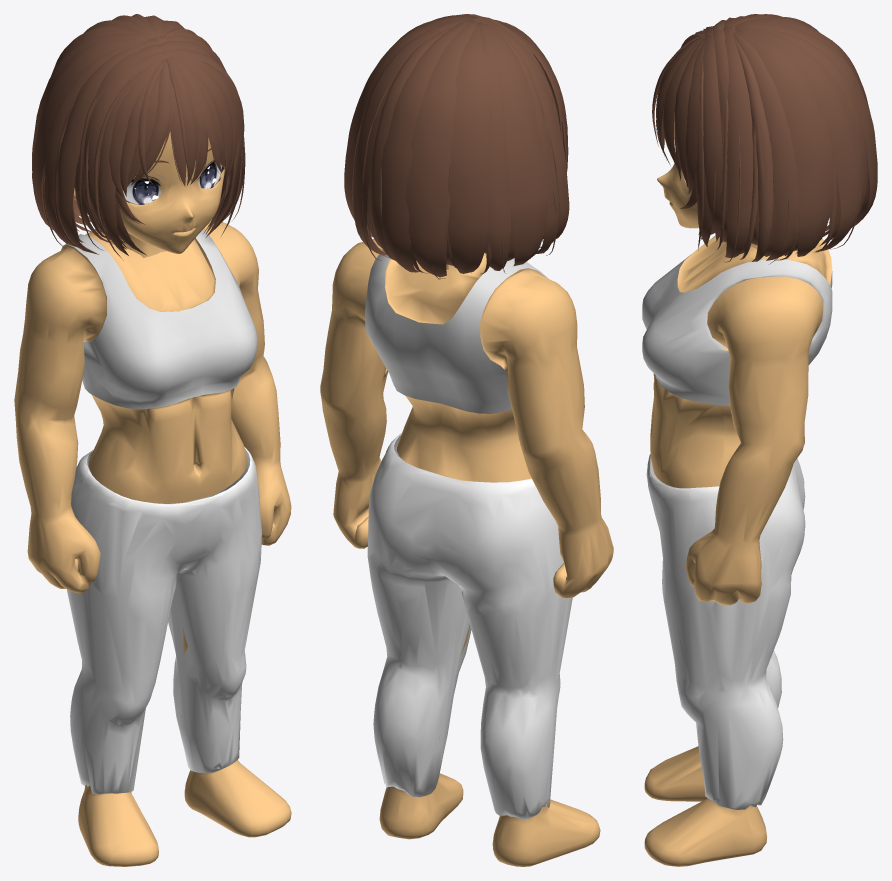
The model's file is Mii female Stage 5.glb.
3 views of the same model, side by side, from view 1: azimuth 30°, elevation 25°; view 2: azimuth 150°, elevation 25°; view 3: azimuth 270°, elevation 25° (orthographic). The views are drawn at different scales.
Visible parts, largest first — view 1: Body; view 2: Body; view 3: Body.
Boxes of the visible parts, x1,y1,x2,y2 form: Body: (14, 14, 291, 866); Body: (320, 14, 613, 866); Body: (642, 14, 877, 866).
Bounding box in the file's own units: 0.6351 × 1.92 × 0.5145.
Materials: 12 (7 with a texture image).
